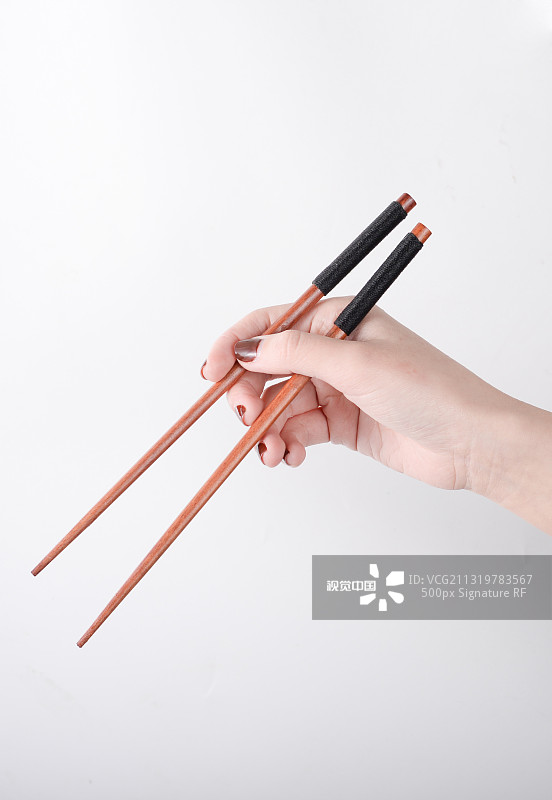no-phone: (31, 182, 514, 537)
